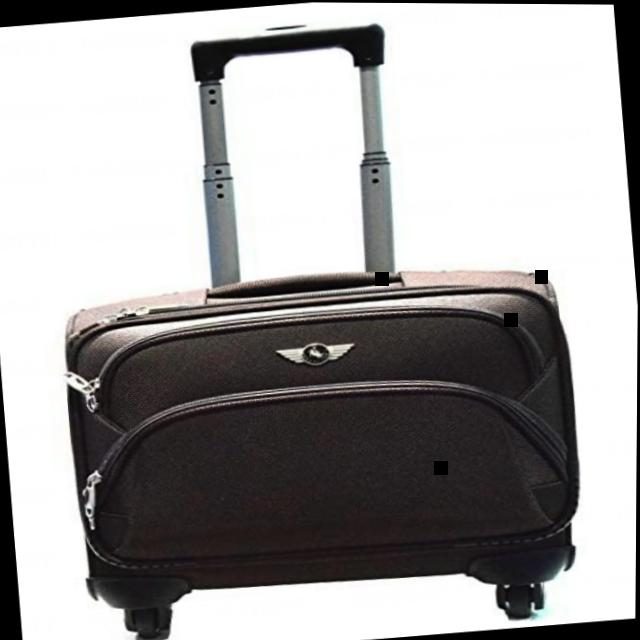luggage: (40, 241, 598, 626)
